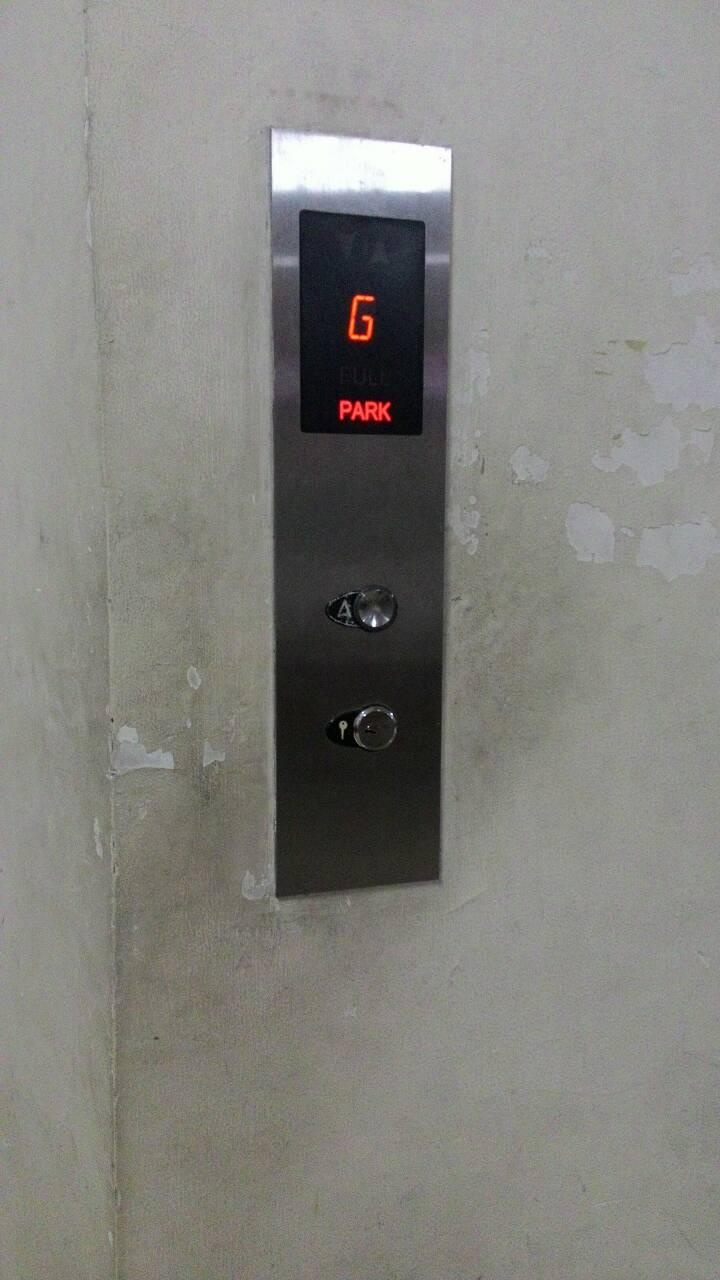key: (322, 701, 402, 752)
led: (298, 212, 426, 440)
up: (321, 583, 399, 632)
